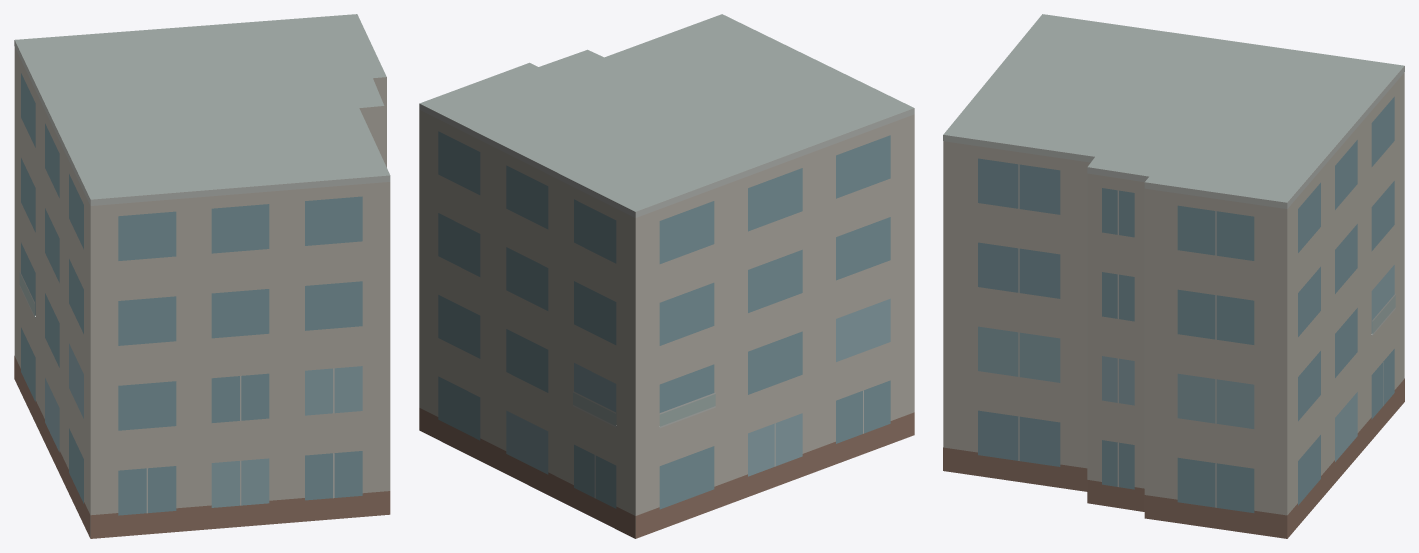
The model's file is survey-upis-32705883.glb.
3 views of the same model, side by side, from view 1: azimuth 30°, elevation 25°; view 2: azimuth 150°, elevation 25°; view 3: azimuth 270°, elevation 25° (orthographic). The views are drawn at different scales.
Parts seen in each view (by area): view 1: survey-upis-32705883.tmp; view 2: survey-upis-32705883.tmp; view 3: survey-upis-32705883.tmp.
Part boxes in pixels (bbox=[...]): survey-upis-32705883.tmp: bbox=[14, 14, 390, 538]; survey-upis-32705883.tmp: bbox=[419, 14, 914, 538]; survey-upis-32705883.tmp: bbox=[943, 14, 1404, 538].
Bounding box in the file's own units: 15.54 × 12.9 × 16.07.
